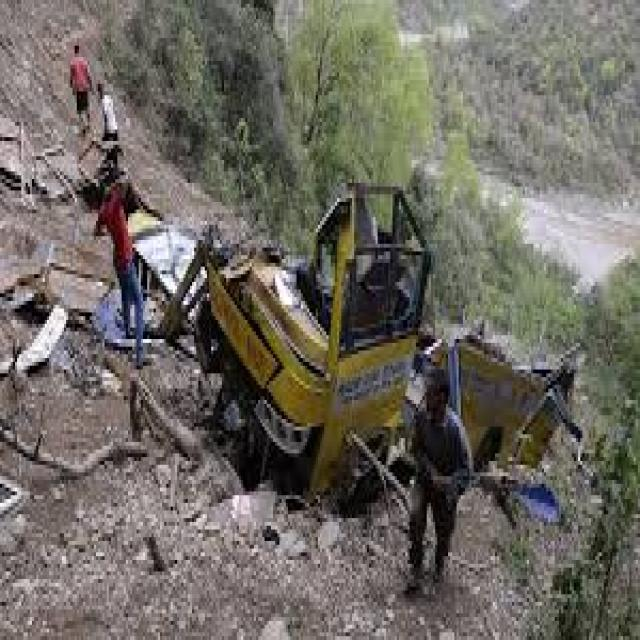accident: (170, 150, 581, 544)
